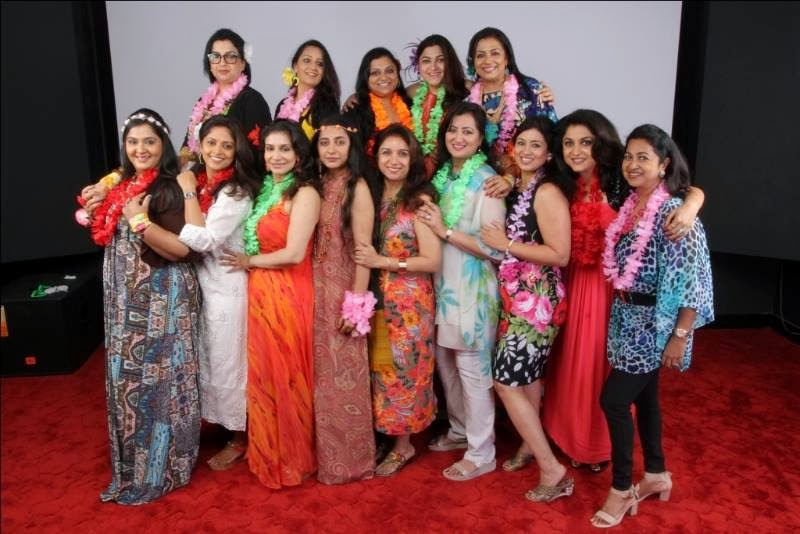bad: (612, 142, 655, 185), (441, 118, 477, 154), (377, 142, 413, 178), (469, 42, 505, 78), (313, 130, 349, 166), (509, 134, 545, 170), (121, 130, 157, 166), (205, 46, 241, 82), (257, 138, 293, 174), (201, 134, 237, 170), (557, 134, 593, 170), (365, 62, 401, 98), (293, 50, 329, 86), (413, 50, 449, 86)
